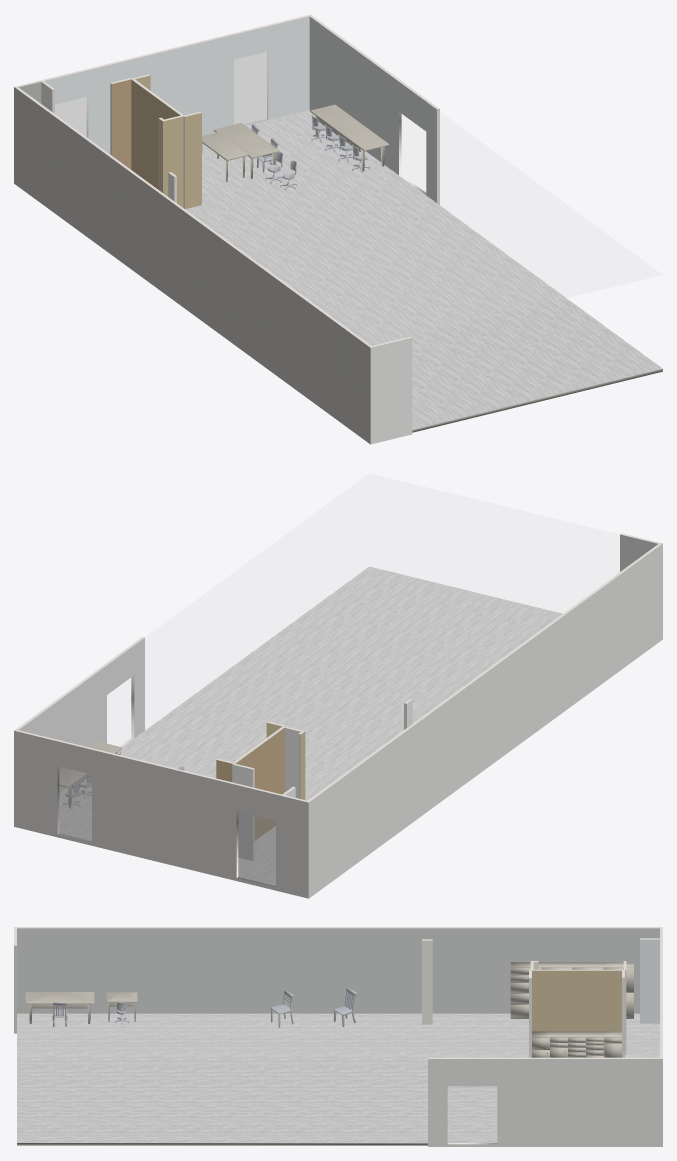
The model's file is Coming off of hallway to right, 4th floor.fbx.
3 views of the same model, one above another, from view 1: azimuth 30°, elevation 25°; view 2: azimuth 150°, elevation 25°; view 3: azimuth 270°, elevation 25° (orthographic). The views are drawn at different scales.
Parts seen in each view (by area): view 1: node_30a77af7_39e9_4286_a7d5_23ccaa64de37_mesh0, node_1f6bb42c_0b80_491b_bb6b_75ce7c52d651_mesh0, node_eeff86f6_ec61_4fd4_9643_7fd080236392_mesh0, node_f61bac28_30be_4d79_8d68_b711669bdffb_mesh0, node_118bd3fa_d596_4b79_b4ea_df54fc0d3b5d_mesh0, node_541d84d1_3281_4646_ab76_1e945a463e71_mesh0, node_890aa654_8a7e_4584_8ab2_b8b575a503f3_mesh0, node_6ca37adf_feee_4d16_8385_8b524bb2a14f_mesh0, node_1a6eff1e_0e97_47be_9402_41180dc79b5d_mesh0, node_65f629bb_d346_4a8a_8eaf_8f8b4f2fe86f_mesh0, node_333433ff_1b1f_4b92_ad18_7bfa1f727bc1_mesh0, node_5da393e0_6f6f_4dbc_a729_71649de95191_mesh0 (+8 smaller); view 2: node_30a77af7_39e9_4286_a7d5_23ccaa64de37_mesh0, node_1f6bb42c_0b80_491b_bb6b_75ce7c52d651_mesh0, node_eeff86f6_ec61_4fd4_9643_7fd080236392_mesh0, node_f61bac28_30be_4d79_8d68_b711669bdffb_mesh0, node_a8efe2ed_077f_4dbe_9eb6_f0f622058fc0_mesh0, node_541d84d1_3281_4646_ab76_1e945a463e71_mesh0, node_a8850c36_5b54_4eba_943f_3e03bde78306_mesh0, node_949d6fa1_a21a_4f18_b55a_3889e060e3af_mesh0, node_f137987f_f355_4698_a5e8_8b68a3aadf65_mesh0, node_1a6eff1e_0e97_47be_9402_41180dc79b5d_mesh0, node_65f629bb_d346_4a8a_8eaf_8f8b4f2fe86f_mesh0, node_6ca37adf_feee_4d16_8385_8b524bb2a14f_mesh0 (+5 smaller); view 3: node_1f6bb42c_0b80_491b_bb6b_75ce7c52d651_mesh0, node_30a77af7_39e9_4286_a7d5_23ccaa64de37_mesh0, node_eb299d0c_05c8_4441_a758_47c535225faa_mesh0, node_eeff86f6_ec61_4fd4_9643_7fd080236392_mesh0, node_5210ada8_ddde_48b2_9de0_cbf8ec31b382_mesh0, node_1ac65d6c_3ff4_41cd_b598_45f0fe684a8a_mesh0, node_f48354ae_76db_4ea4_8c26_0f98d00e91e4_mesh0, node_1a309b2b_9d0b_447c_b047_a86a914adf02_mesh0, node_fb474823_078b_4ec4_bc08_678e4b3d8d9e_mesh0, node_2a59653d_87cf_4964_bcaf_0d9054938e6c_mesh0, node_676fb614_5173_4792_9b99_40da2d47ad42_mesh0, node_b2a72ed7_38b9_4f1c_a091_0a1d810b1143_mesh0 (+6 smaller).
Part boxes in pixels (x1,y1,x2,y2): node_30a77af7_39e9_4286_a7d5_23ccaa64de37_mesh0: [147, 110, 661, 345]; node_1f6bb42c_0b80_491b_bb6b_75ce7c52d651_mesh0: [185, 110, 662, 429]; node_eeff86f6_ec61_4fd4_9643_7fd080236392_mesh0: [19, 17, 435, 179]; node_f61bac28_30be_4d79_8d68_b711669bdffb_mesh0: [14, 87, 370, 444]; node_118bd3fa_d596_4b79_b4ea_df54fc0d3b5d_mesh0: [44, 16, 309, 153]; node_541d84d1_3281_4646_ab76_1e945a463e71_mesh0: [309, 16, 436, 202]; node_890aa654_8a7e_4584_8ab2_b8b575a503f3_mesh0: [370, 338, 412, 444]; node_6ca37adf_feee_4d16_8385_8b524bb2a14f_mesh0: [131, 79, 180, 189]; node_1a6eff1e_0e97_47be_9402_41180dc79b5d_mesh0: [234, 51, 268, 125]; node_65f629bb_d346_4a8a_8eaf_8f8b4f2fe86f_mesh0: [234, 52, 267, 124]; node_333433ff_1b1f_4b92_ad18_7bfa1f727bc1_mesh0: [310, 104, 389, 171]; node_5da393e0_6f6f_4dbc_a729_71649de95191_mesh0: [184, 113, 201, 208]; node_30a77af7_39e9_4286_a7d5_23ccaa64de37_mesh0: [146, 474, 656, 707]; node_1f6bb42c_0b80_491b_bb6b_75ce7c52d651_mesh0: [59, 566, 562, 885]; node_eeff86f6_ec61_4fd4_9643_7fd080236392_mesh0: [20, 638, 432, 799]; node_f61bac28_30be_4d79_8d68_b711669bdffb_mesh0: [308, 543, 662, 898]; node_a8efe2ed_077f_4dbe_9eb6_f0f622058fc0_mesh0: [14, 730, 280, 891]; node_541d84d1_3281_4646_ab76_1e945a463e71_mesh0: [18, 638, 144, 792]; node_a8850c36_5b54_4eba_943f_3e03bde78306_mesh0: [280, 796, 308, 898]; node_949d6fa1_a21a_4f18_b55a_3889e060e3af_mesh0: [238, 812, 275, 885]; node_f137987f_f355_4698_a5e8_8b68a3aadf65_mesh0: [238, 812, 275, 885]; node_1a6eff1e_0e97_47be_9402_41180dc79b5d_mesh0: [59, 767, 91, 840]; node_65f629bb_d346_4a8a_8eaf_8f8b4f2fe86f_mesh0: [59, 767, 91, 840]; node_6ca37adf_feee_4d16_8385_8b524bb2a14f_mesh0: [236, 728, 284, 840]; node_1f6bb42c_0b80_491b_bb6b_75ce7c52d651_mesh0: [17, 1013, 659, 1142]; node_30a77af7_39e9_4286_a7d5_23ccaa64de37_mesh0: [17, 929, 427, 1056]; node_eb299d0c_05c8_4441_a758_47c535225faa_mesh0: [17, 928, 659, 1013]; node_eeff86f6_ec61_4fd4_9643_7fd080236392_mesh0: [428, 929, 659, 1056]; node_5210ada8_ddde_48b2_9de0_cbf8ec31b382_mesh0: [428, 1059, 662, 1146]; node_1ac65d6c_3ff4_41cd_b598_45f0fe684a8a_mesh0: [532, 970, 621, 1031]; node_f48354ae_76db_4ea4_8c26_0f98d00e91e4_mesh0: [532, 1031, 621, 1057]; node_1a309b2b_9d0b_447c_b047_a86a914adf02_mesh0: [510, 962, 633, 1018]; node_fb474823_078b_4ec4_bc08_678e4b3d8d9e_mesh0: [640, 939, 659, 1023]; node_2a59653d_87cf_4964_bcaf_0d9054938e6c_mesh0: [14, 927, 662, 928]; node_676fb614_5173_4792_9b99_40da2d47ad42_mesh0: [17, 1143, 427, 1145]; node_b2a72ed7_38b9_4f1c_a091_0a1d810b1143_mesh0: [25, 992, 94, 1023].
Bounding box in the file's own units: 1064 × 332 × 2215.
Materials: 17 (1 with a texture image).
